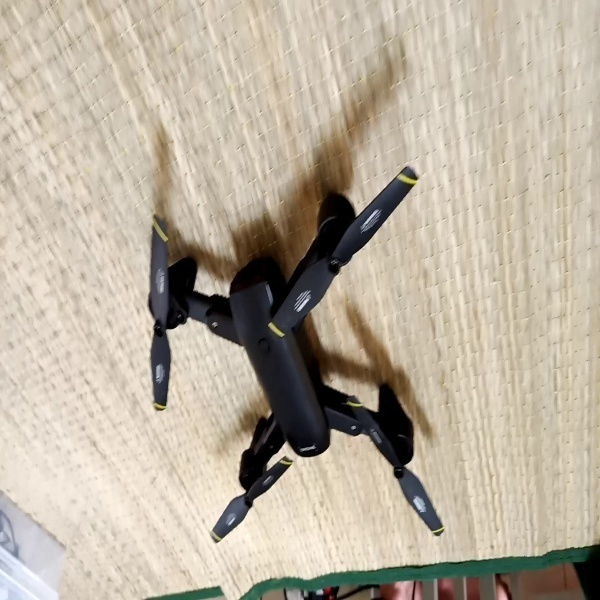drone: (143, 162, 453, 553)
